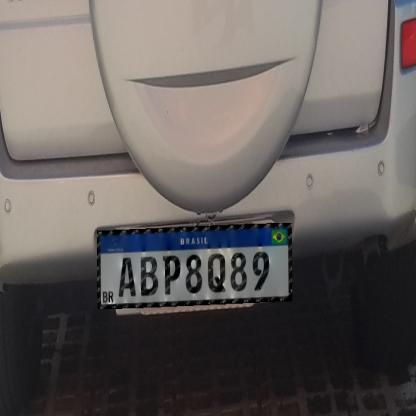PlacaM: (97, 223, 292, 309)
